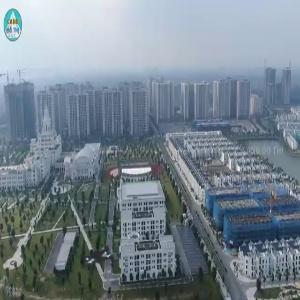drone: (56, 214, 139, 297)
